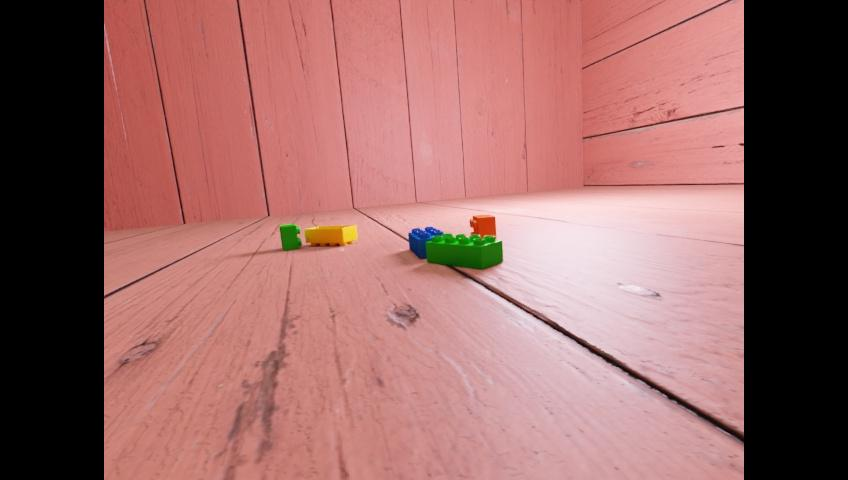2x2_green: (279, 223, 301, 250)
2x2_orange: (469, 213, 495, 238)
4x2_blue: (408, 226, 443, 258)
4x2_green: (425, 232, 502, 268)
4x2_yellow: (304, 224, 356, 245)
